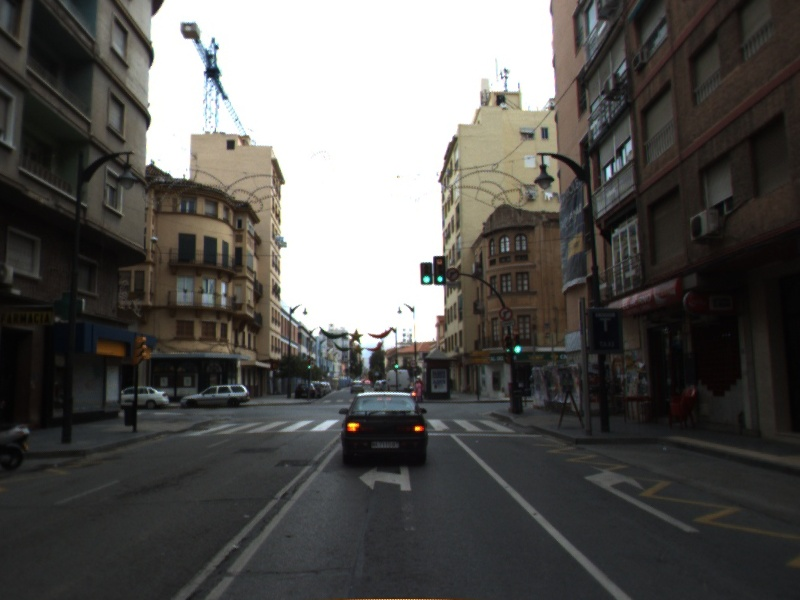RIGHT: (582, 464, 703, 535)
STRAIGHT_LEFT: (355, 457, 418, 496)
